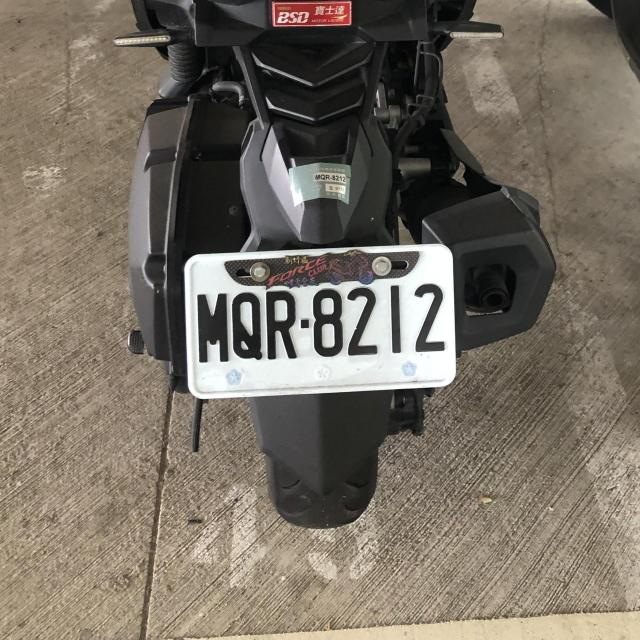W: (178, 238, 459, 400)
